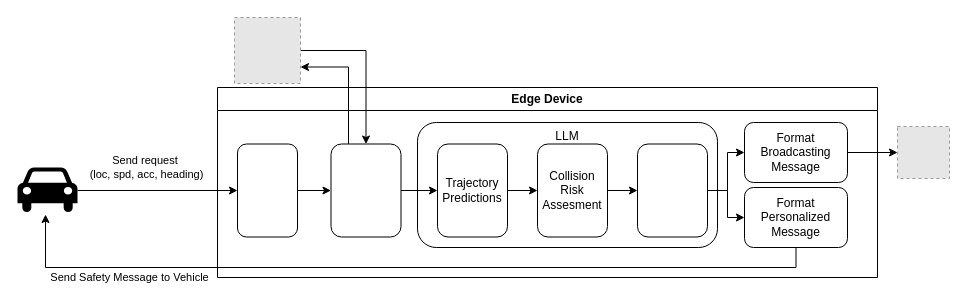
This 967x301 diagram has some shape labels left out. Grey dashed boxes stand in for pictures. Each missing label, with the centre of its shape:
Fetch LiDAR Detections: (365,190)
Receive Ego Veh Data: (267,190)
Severity Ranking: (672,190)
